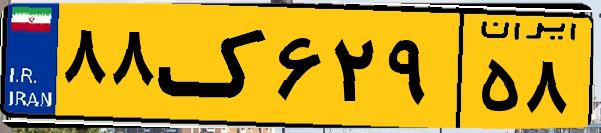2: (330, 28, 385, 110)
5: (475, 38, 525, 113)
6: (270, 28, 330, 110)
8: (57, 26, 110, 100), (525, 38, 570, 115), (110, 28, 158, 98)
9: (385, 28, 445, 110)
ک: (158, 12, 270, 120)
